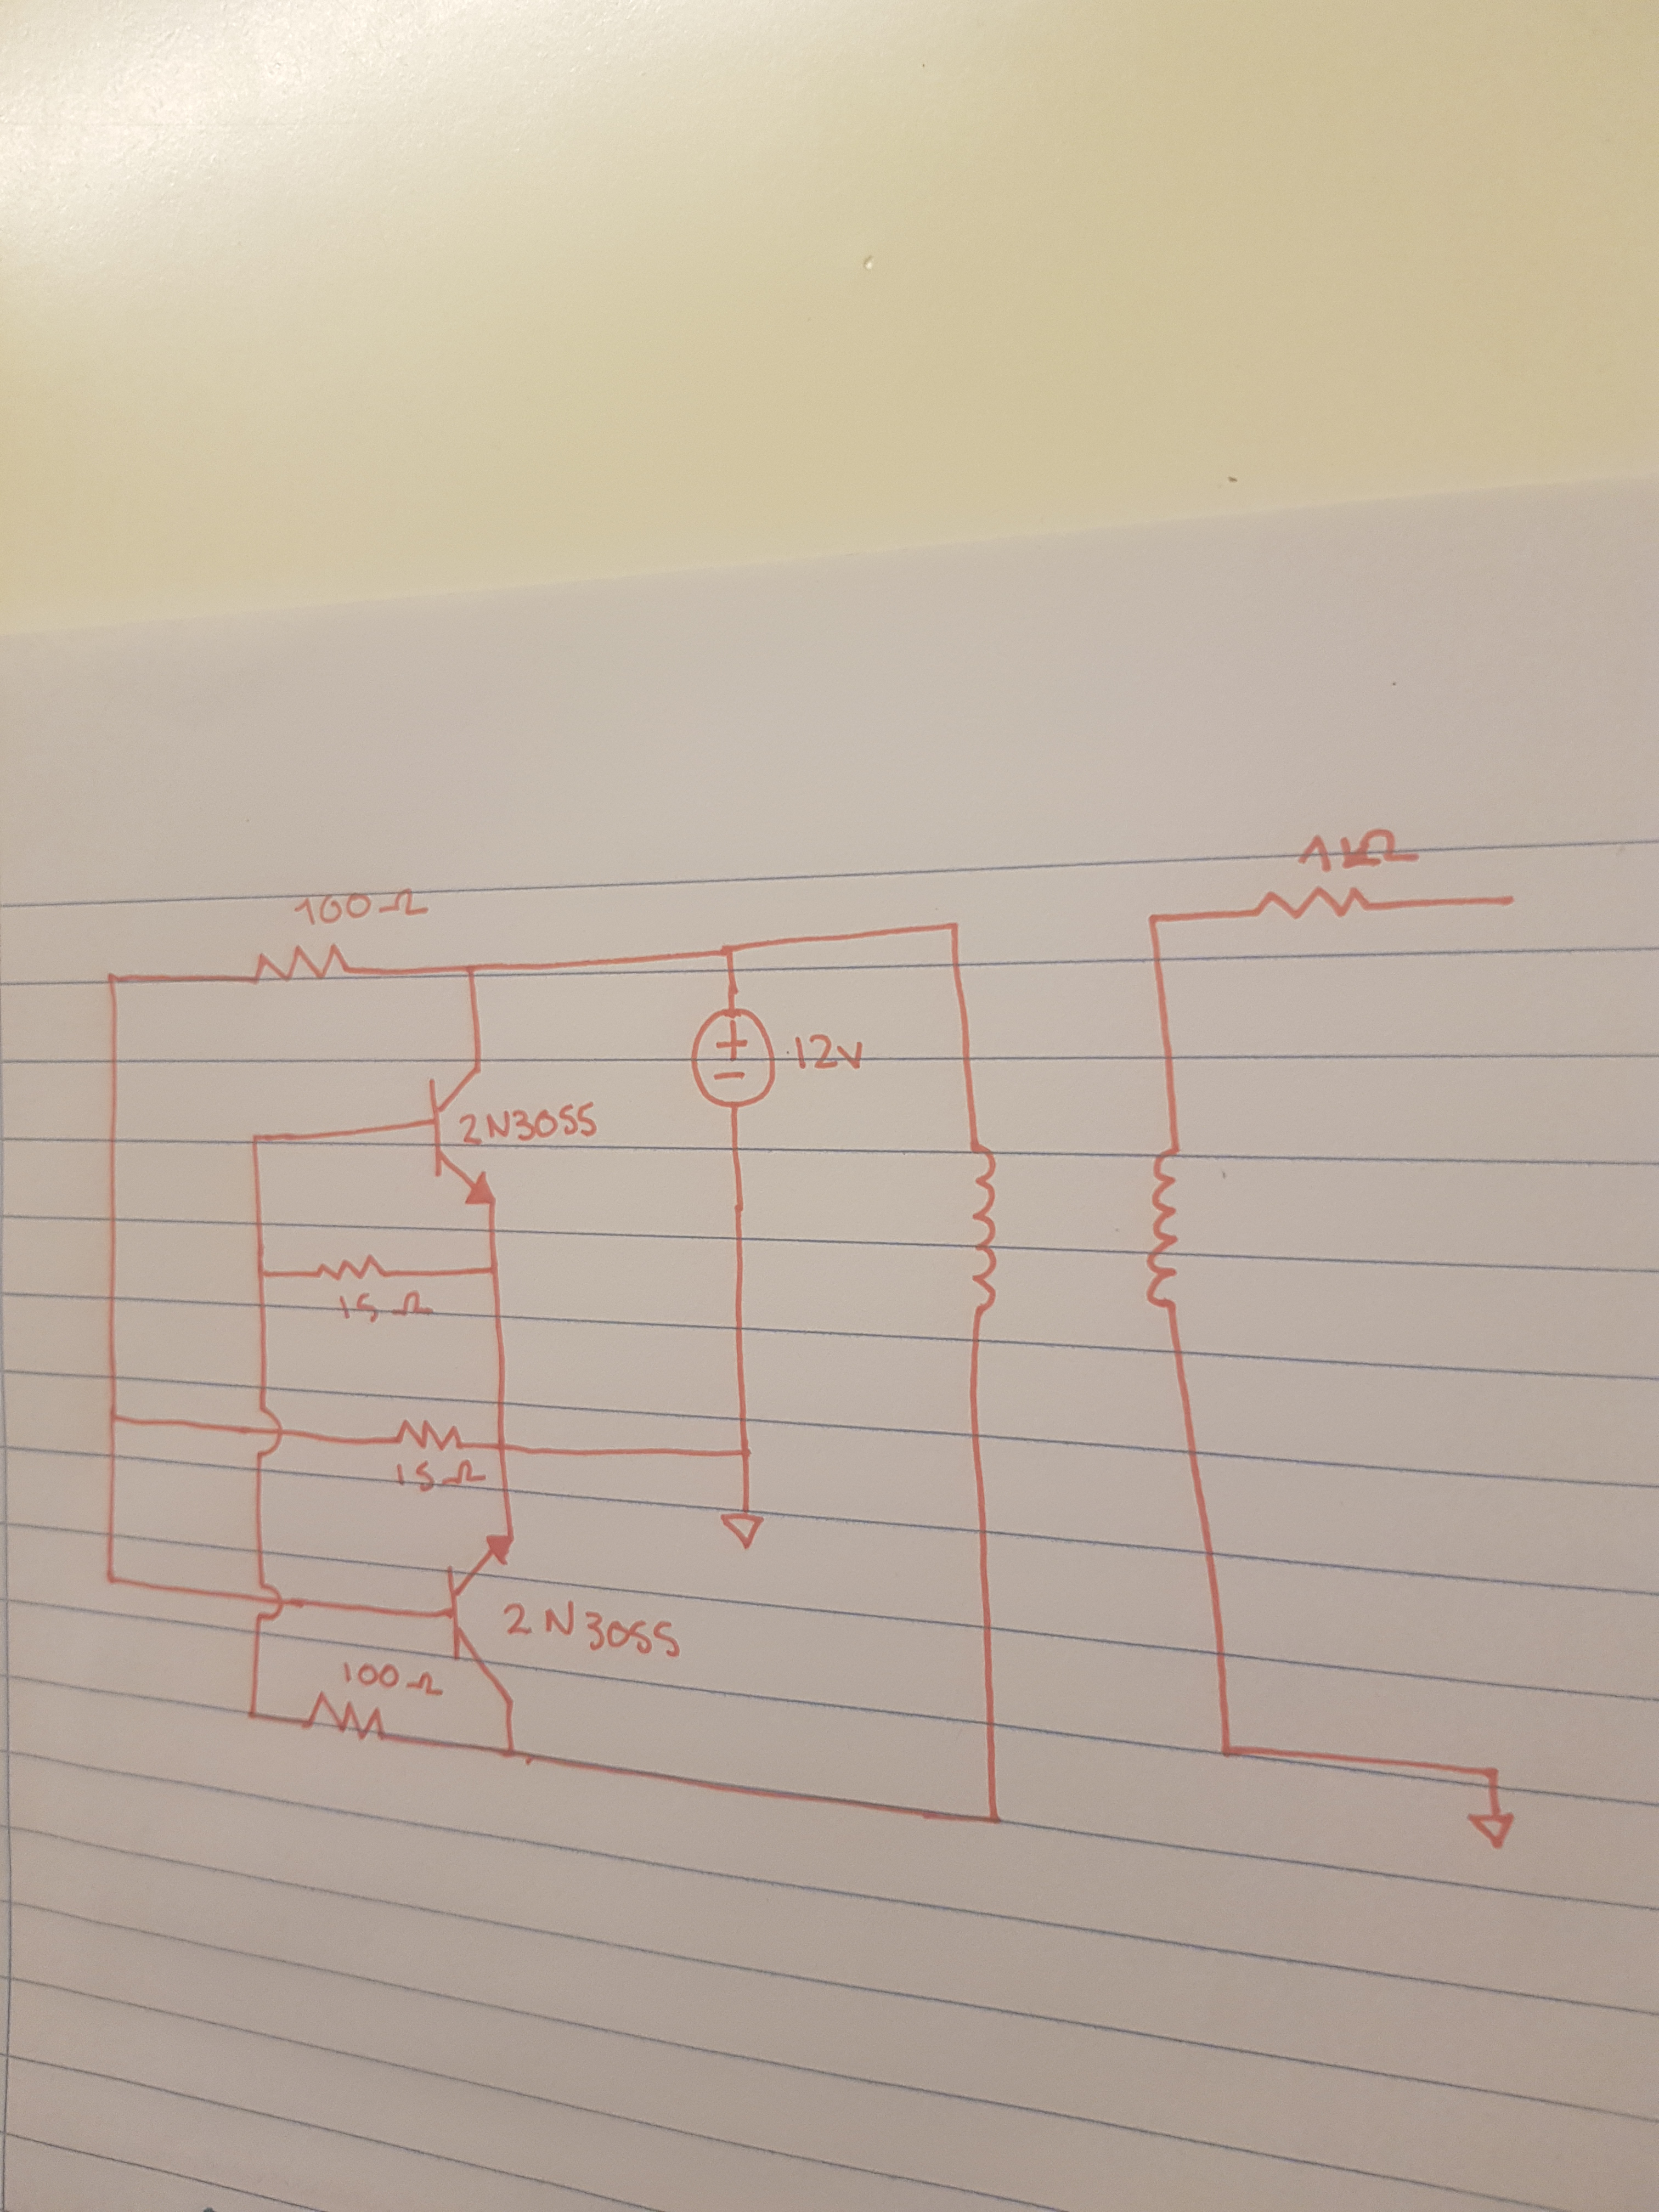crossover: (247, 1404, 286, 1463), (251, 1581, 286, 1630)
gnd: (1462, 1806, 1518, 1857), (713, 1508, 767, 1552)
junction: (101, 967, 136, 1000), (1211, 1737, 1239, 1768), (976, 1804, 1009, 1831), (479, 1259, 509, 1287), (101, 1404, 132, 1430), (498, 1740, 525, 1768), (99, 1566, 125, 1594), (718, 935, 742, 965), (240, 1702, 267, 1728), (943, 916, 967, 942), (457, 960, 483, 984), (1141, 906, 1166, 928), (251, 1263, 274, 1287), (1481, 1763, 1504, 1785), (735, 1442, 756, 1467), (488, 1439, 512, 1458), (247, 1130, 268, 1151)
resistor: (1234, 878, 1396, 935), (240, 942, 369, 995), (305, 1688, 387, 1750), (308, 1245, 399, 1292), (392, 1418, 464, 1458)
terminal: (1485, 881, 1534, 914)
text: (498, 1597, 688, 1665), (458, 1097, 601, 1150), (1298, 824, 1420, 873), (288, 887, 430, 925), (335, 1658, 451, 1703), (788, 1028, 871, 1076), (335, 1291, 437, 1325), (390, 1458, 484, 1489)
transformer: (957, 1125, 1199, 1339)
transistor: (439, 1519, 521, 1717), (418, 1052, 516, 1207)
voltage.dc: (680, 1003, 782, 1111)
